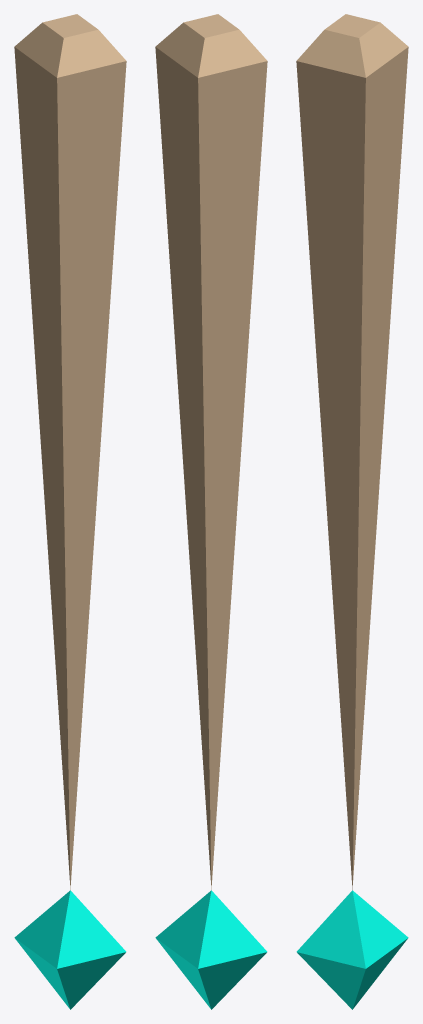
File: TeslaMutant-LowerArm.fbx
3 renders of one model, left to right at view 1: azimuth 30°, elevation 25°; view 2: azimuth 210°, elevation 25°; view 3: azimuth 330°, elevation 25°, orthographic.
Visible parts, largest first — view 1: TeslaMutantLowerArm; view 2: TeslaMutantLowerArm; view 3: TeslaMutantLowerArm.
Boxes of the visible parts, left/top/right/bottom form: TeslaMutantLowerArm: left=14, top=14, right=126, bottom=1009; TeslaMutantLowerArm: left=155, top=14, right=267, bottom=1009; TeslaMutantLowerArm: left=296, top=14, right=408, bottom=1009.
Bounding box in the file's own units: 0.0447 × 0.6042 × 0.0475.
